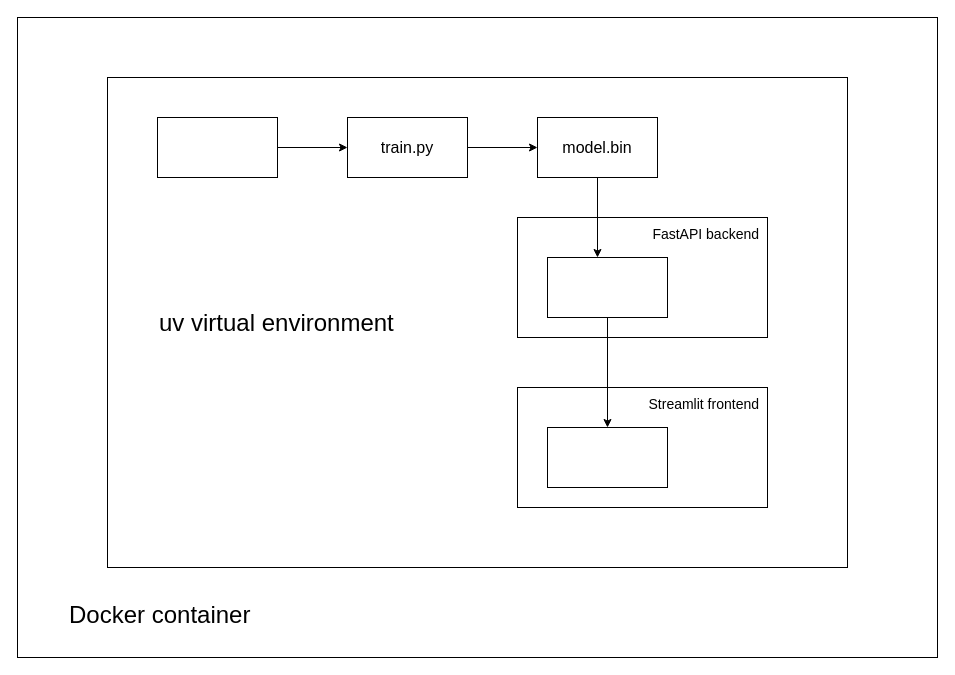
The diagram is 955 pixels wide and 675 high, and some of its shapes have lost their labels. Each missing label, with the centre of its shape:
"Data" belongs at pixel 217 147.
"predict.py" belongs at pixel 607 287.
"streamlit_app.py" belongs at pixel 607 457.
